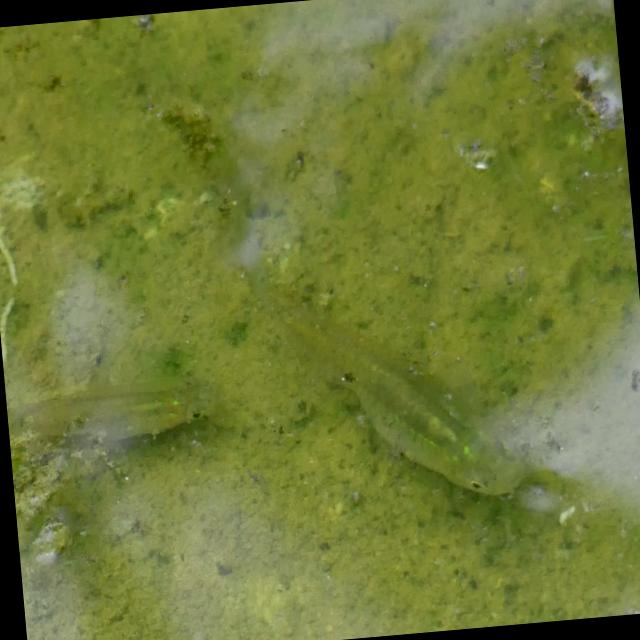Sivrisinek Baligi: (248, 251, 524, 518), (3, 349, 200, 459)
